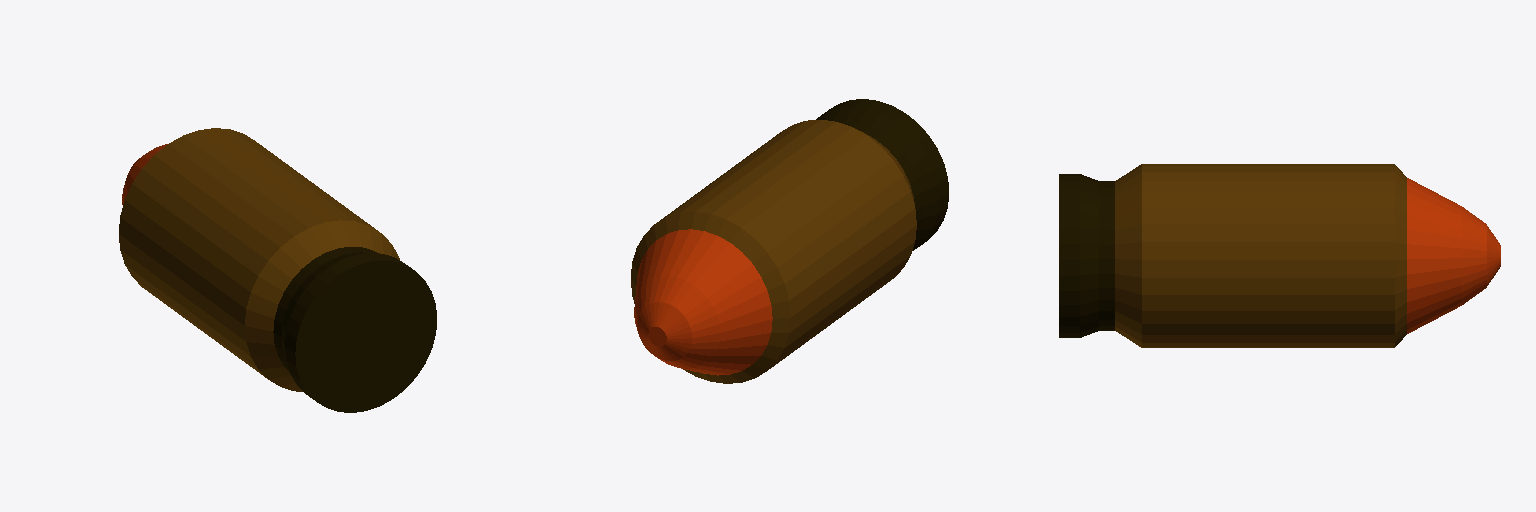
File: bullet.obj
The picture shows the model from 3 angles: view 1: azimuth 30°, elevation 25°; view 2: azimuth 150°, elevation 25°; view 3: azimuth 270°, elevation 25°; orthographic projection.
Parts seen in each view (by area): view 1: Cylinder; view 2: Cylinder; view 3: Cylinder.
Part boxes in pixels (bbox=[...]): Cylinder: bbox=[119, 128, 436, 412]; Cylinder: bbox=[631, 99, 948, 383]; Cylinder: bbox=[1059, 164, 1500, 347].
Bounding box in the file's own units: 0.2003 × 0.2003 × 0.4778.